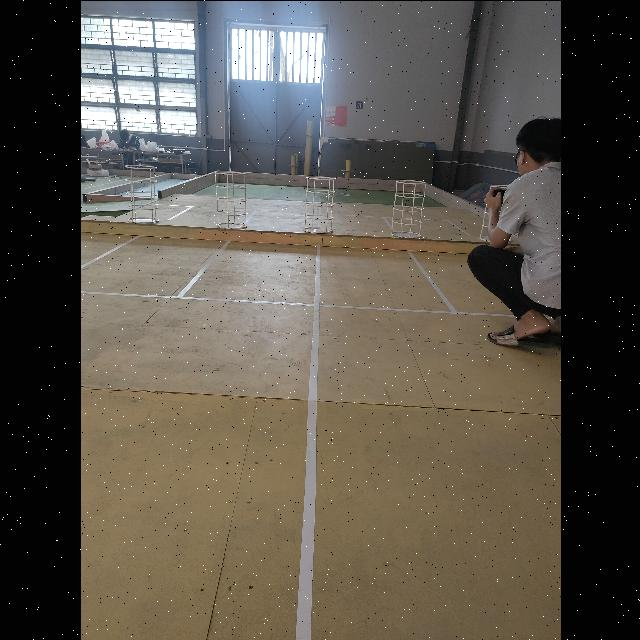S: (390, 178, 426, 238), (301, 176, 335, 234), (213, 170, 247, 228), (124, 164, 158, 222)
